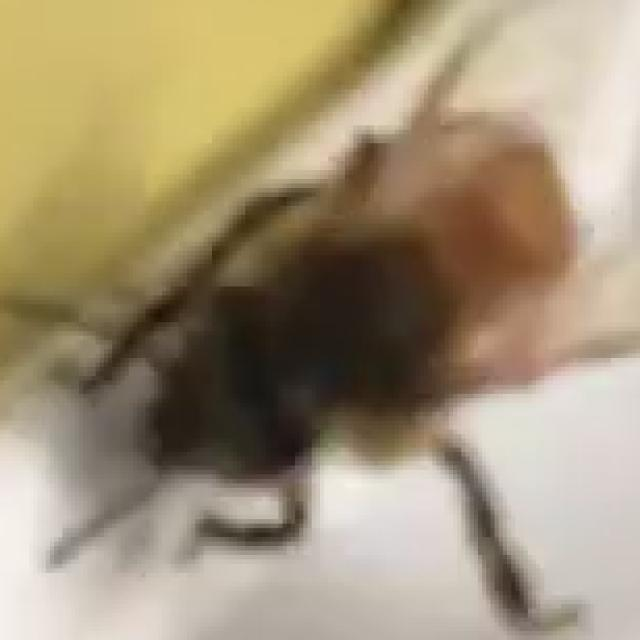honeybee: (88, 102, 640, 636)
